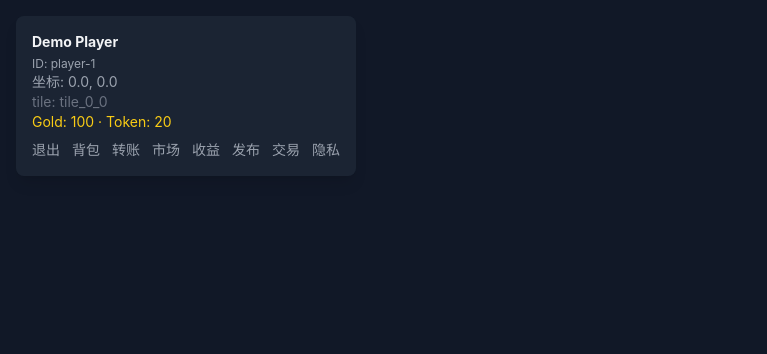
it: PlayerHUD inventory › submits gold transfer with target player
Click the button "转账" at (126, 150), box [112,140,140,160]
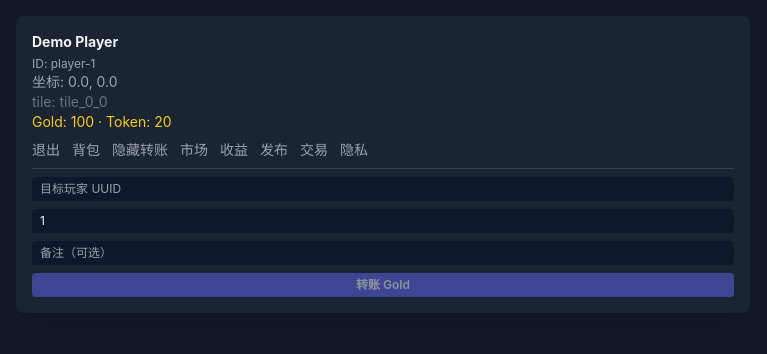
Type "22222222-2222-4222-8222-222222222222" into the field with placeholder "目标玩家 UUID" at (383, 189), box [32,177,734,201]
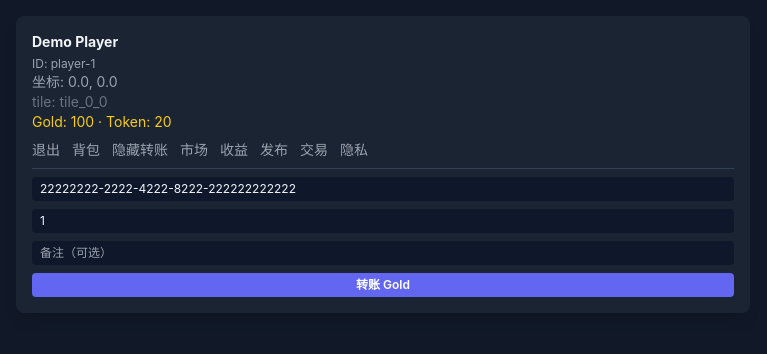
Replace the text in the number field with placeholder "Gold 数量" with "10" at (383, 221), box [32,209,734,233]
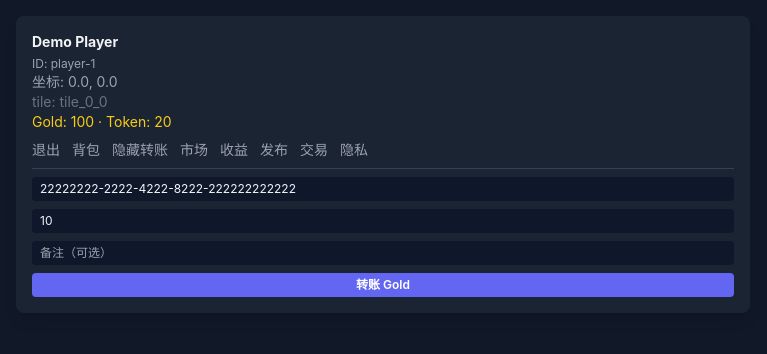
Click the button "转账 Gold" at (383, 285), box [32,273,734,297]
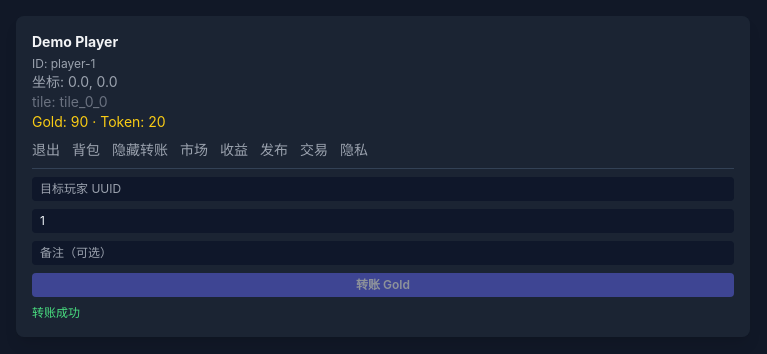
Check: the text "转账成功" is shown, box [32,305,80,320]
Check: the text "Gold: 90 · Token: 20" is shown, box [32,113,166,130]
